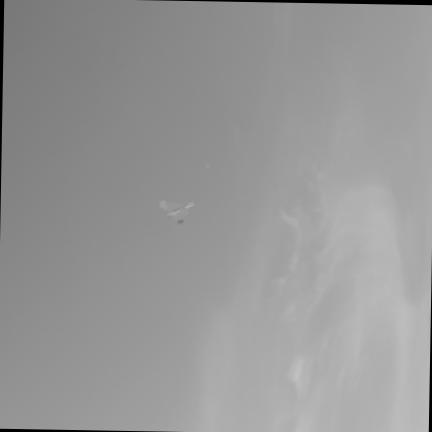Shahed: (160, 200, 194, 223)
